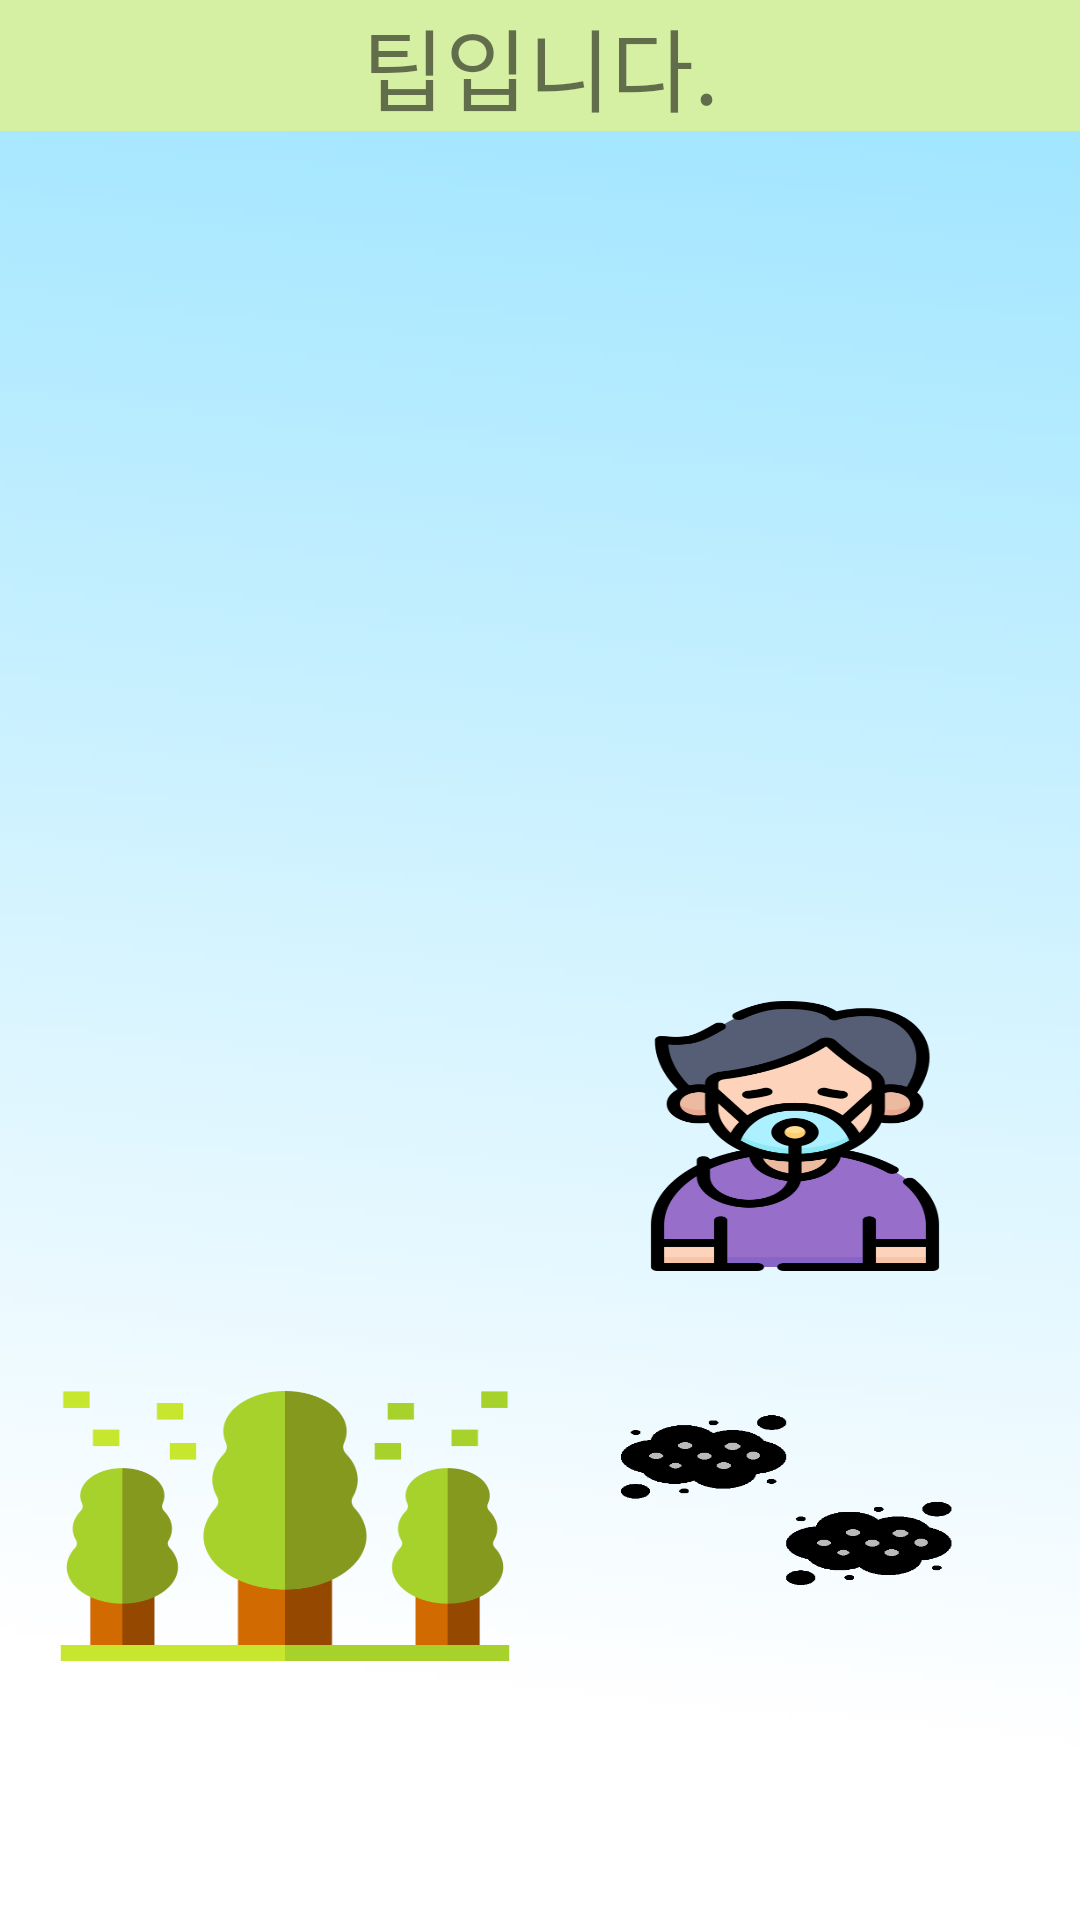

Icon click points for this 1080x1920 phone screenshot, format (x,y):
dust: (786,1500)
